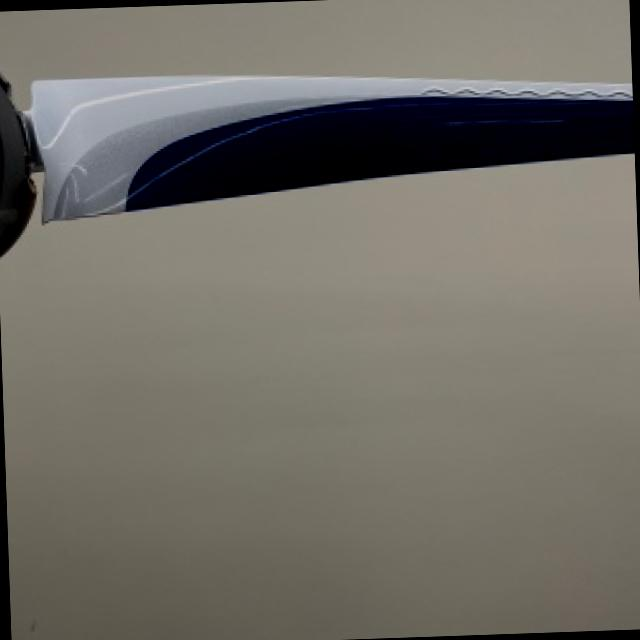healthy: (0, 70, 632, 249)
